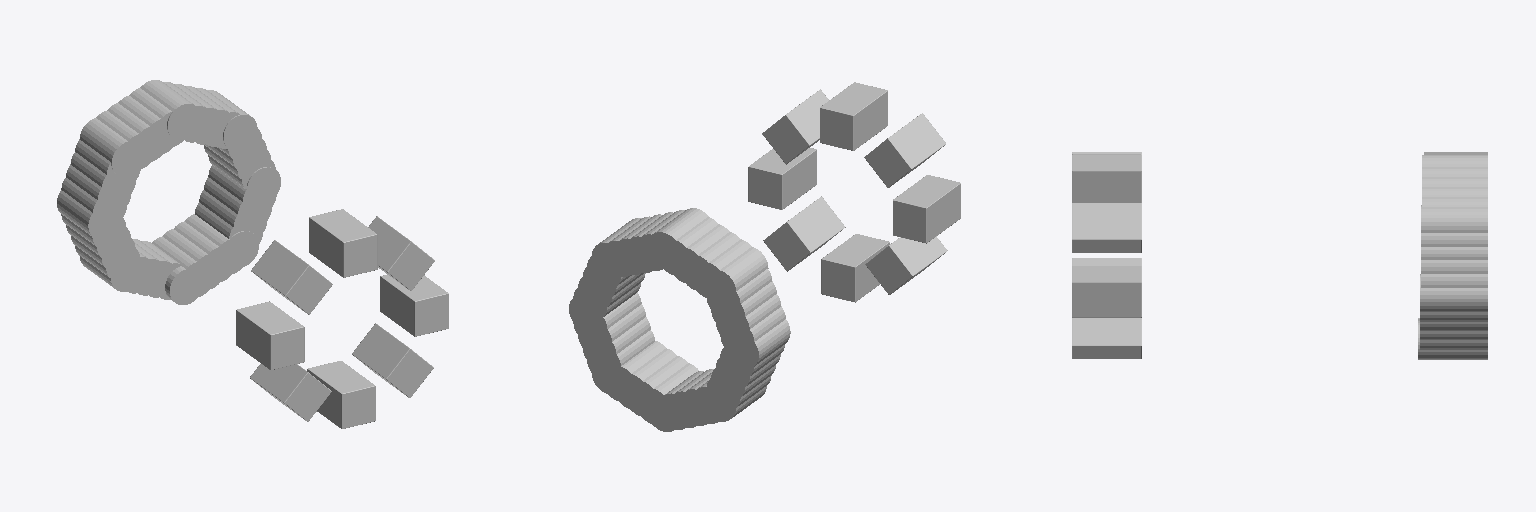
File: complex.obj
The picture shows the model from 3 angles: view 1: azimuth 30°, elevation 25°; view 2: azimuth 150°, elevation 25°; view 3: azimuth 270°, elevation 25°; orthographic projection.
Parts seen in each view (by area): view 1: obj_0; view 2: obj_0; view 3: obj_0.
Boxes of the visible parts, x1,y1,x2,y2 form: obj_0: [57, 80, 448, 428]; obj_0: [569, 82, 960, 431]; obj_0: [1072, 152, 1487, 359].
Bounding box in the file's own units: 111 × 111 × 211.